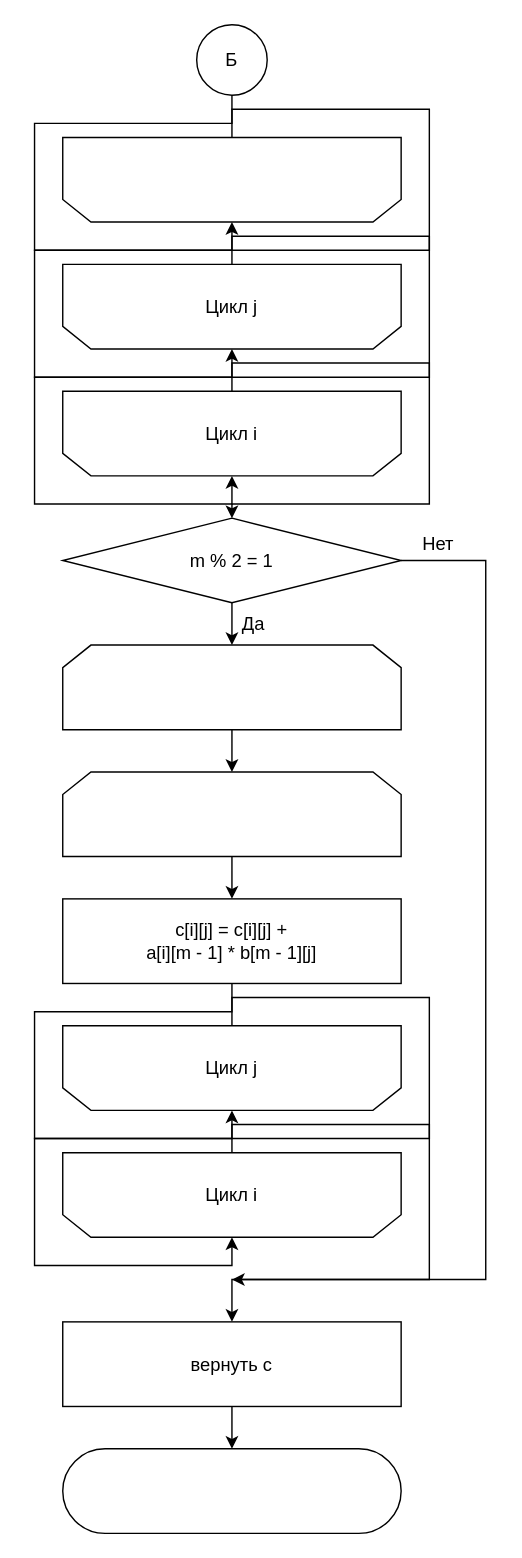
This 522x1558 diagram has some shape labels left out. The shapes that lost their labels are listed below. From the top down, each one's centre as x and y in pixels, then its label:
At (x=231, y=179): "Цикл k".
At (x=231, y=687): "Цикл i, от 0 до n - 1, шаг 1".
At (x=231, y=814): "Цикл j, от 0 до q - 1, шаг 1".
At (x=231, y=1490): "Конец".
